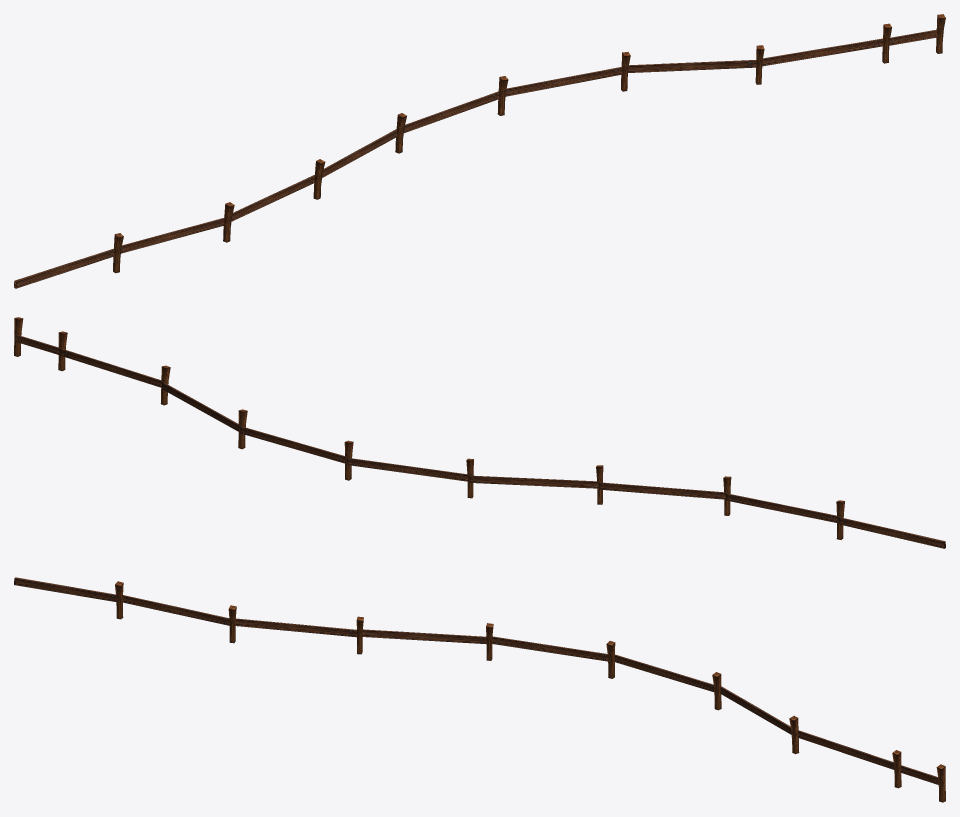
The model's file is EKH_ENTRANCE_PS_EN_FENCE_4746__GX.fbx.
The picture shows the model from 3 angles, top to bottom: view 1: azimuth 30°, elevation 25°; view 2: azimuth 150°, elevation 25°; view 3: azimuth 330°, elevation 25°; orthographic projection. The views are drawn at different scales.
Parts seen in each view (by area): view 1: EKH_ENTRANCE_PS_EN_FENCE_4746__GX; view 2: EKH_ENTRANCE_PS_EN_FENCE_4746__GX; view 3: EKH_ENTRANCE_PS_EN_FENCE_4746__GX.
Part boxes in pixels (x1,y1,x2,y2): EKH_ENTRANCE_PS_EN_FENCE_4746__GX: (14, 14, 945, 288); EKH_ENTRANCE_PS_EN_FENCE_4746__GX: (14, 317, 945, 548); EKH_ENTRANCE_PS_EN_FENCE_4746__GX: (14, 577, 945, 802).
Bounding box in the file's own units: 265414 × 10209 × 34482.
3 materials, 3 textured.
